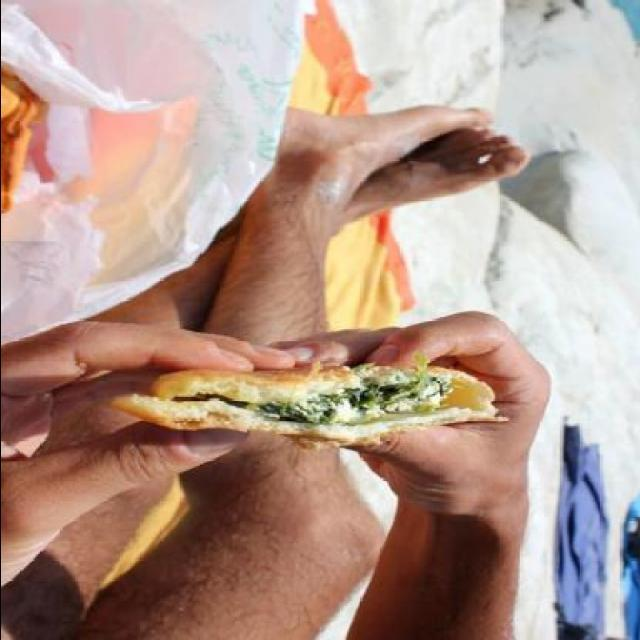Hot dog: (92, 352, 510, 463)
